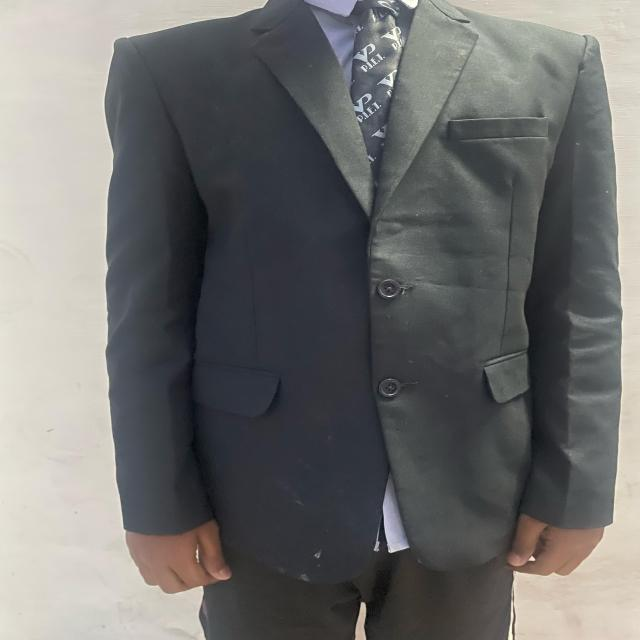Tie: (349, 0, 404, 182)
uniform: (102, 1, 622, 638)
